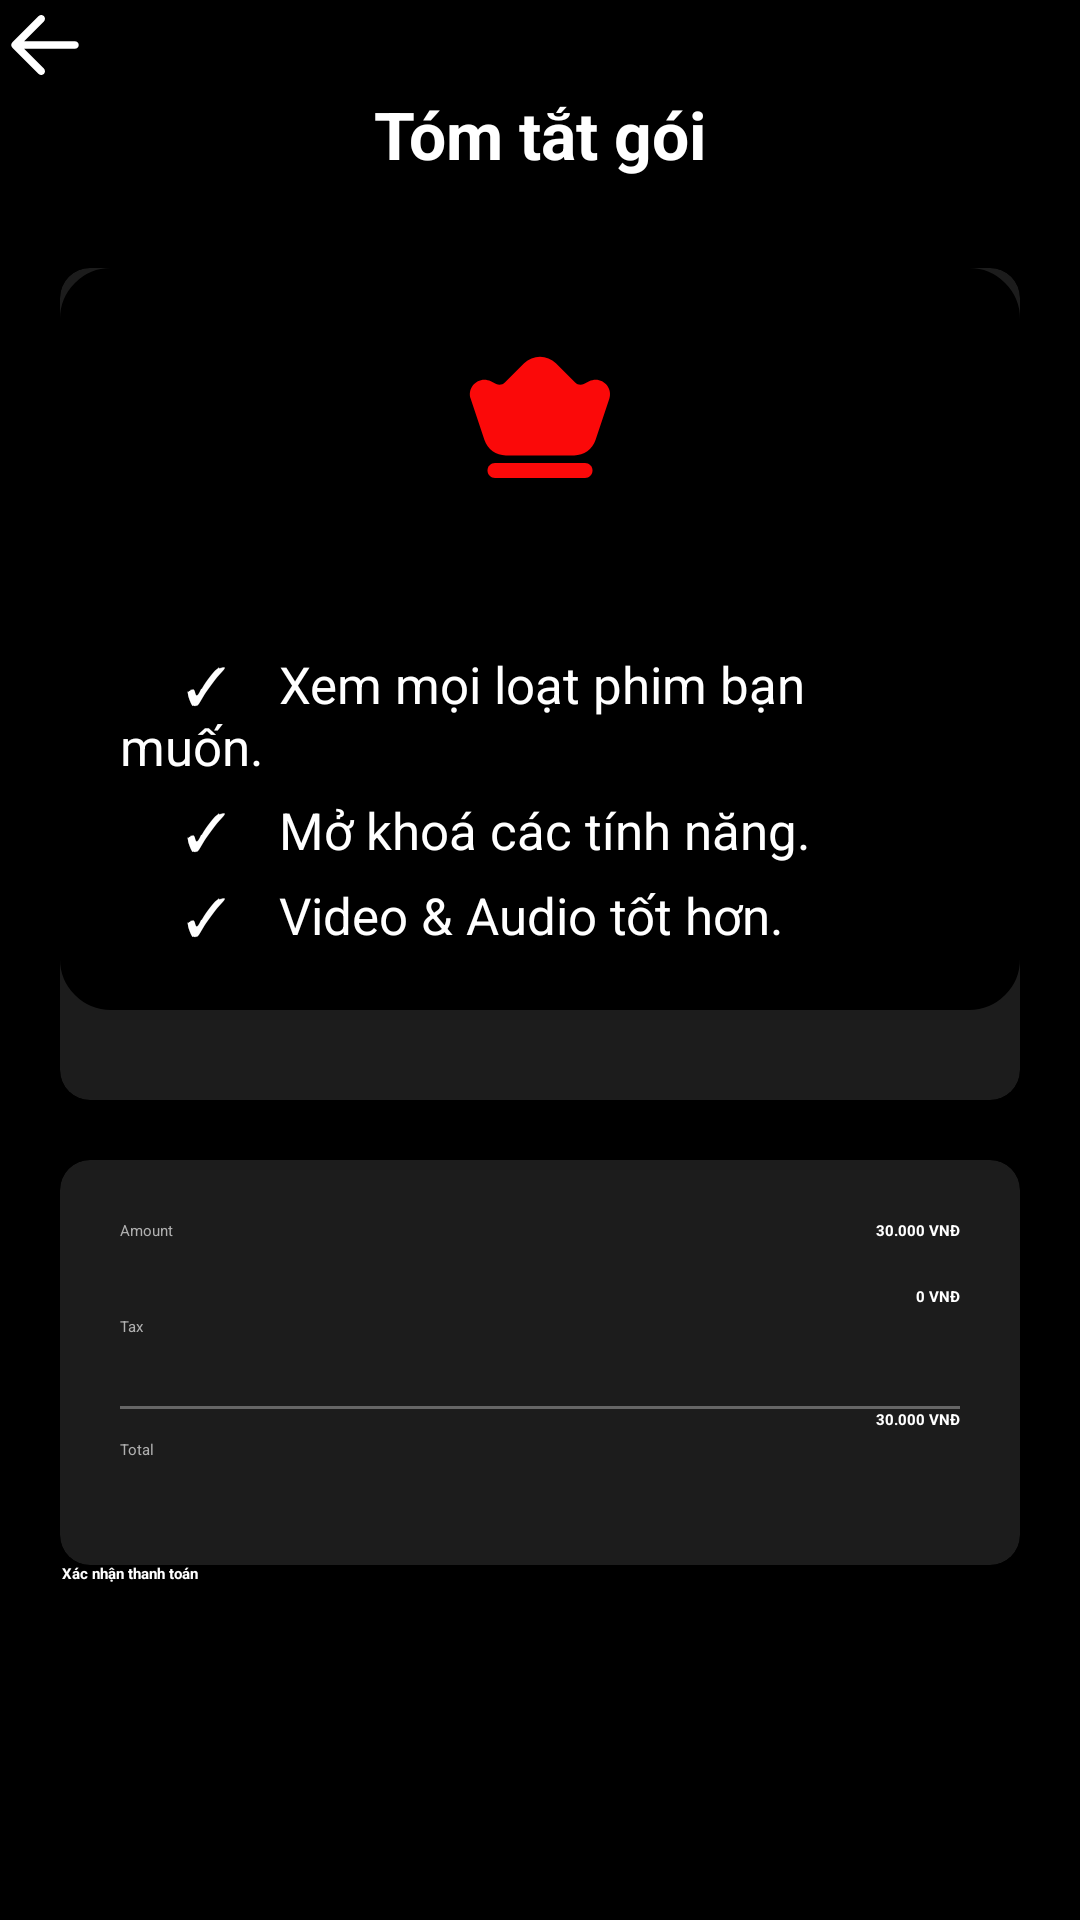

Icons on this 1080 x 1920 Android screen, each with the point to tap as point (x, y):
crown: point (539, 417)
left arrow: point (45, 45)
